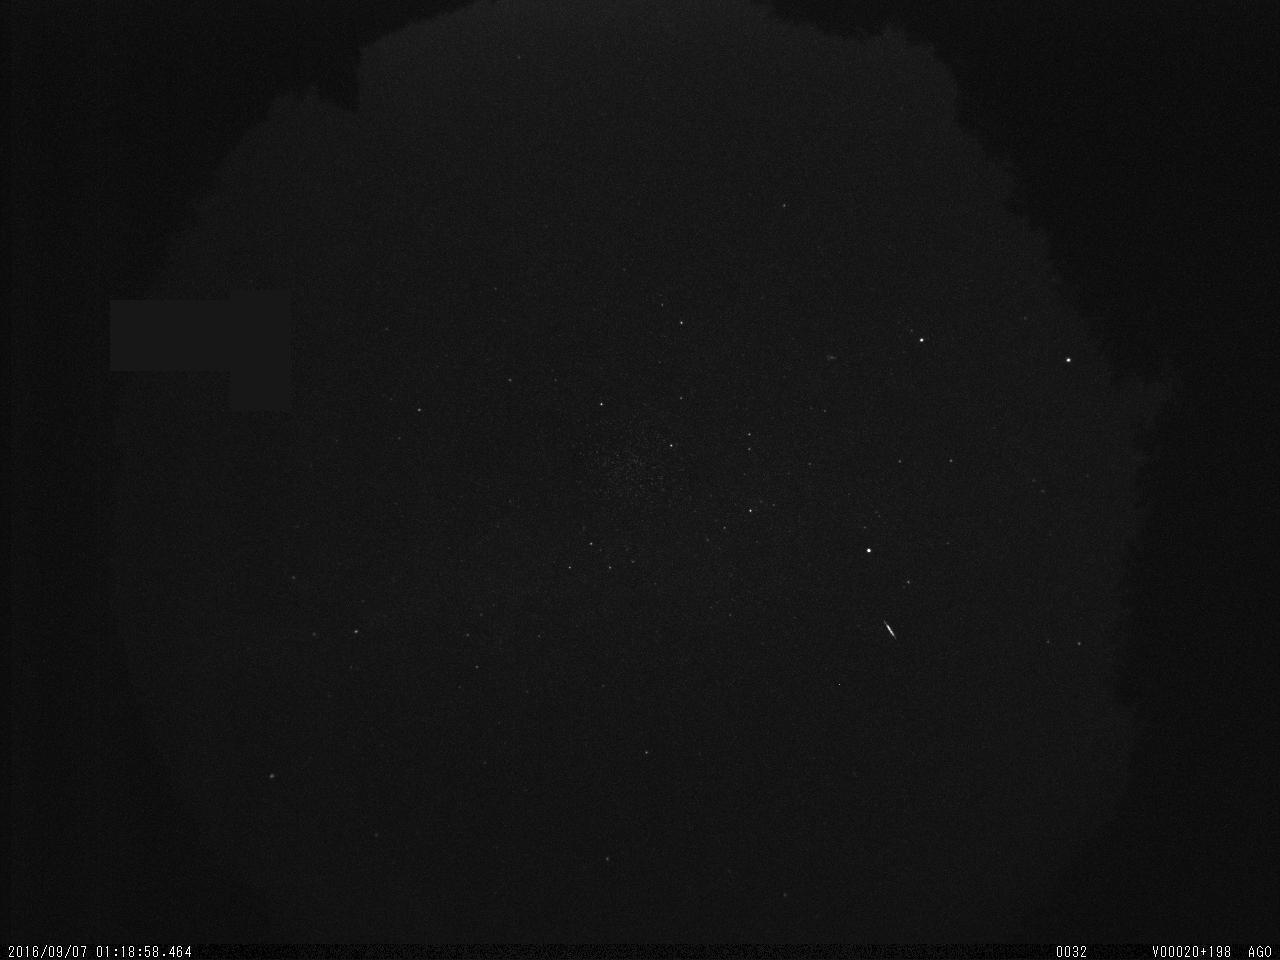Meteor: (883, 611, 897, 645)
